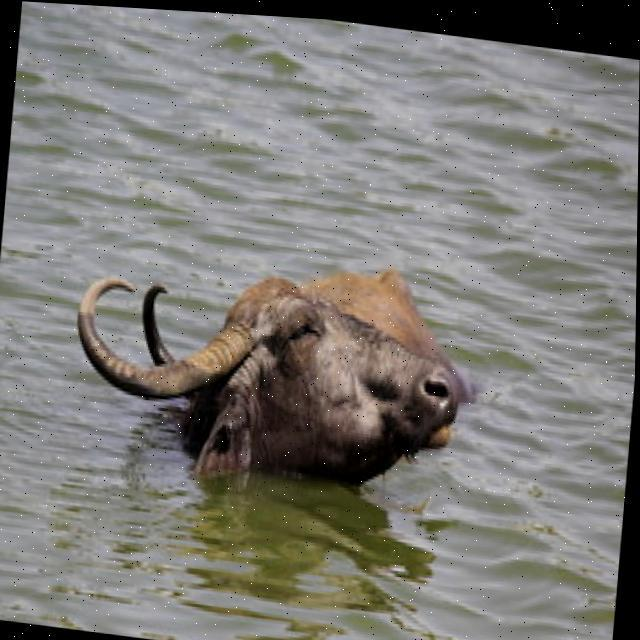Buffalo: (60, 219, 486, 518)
